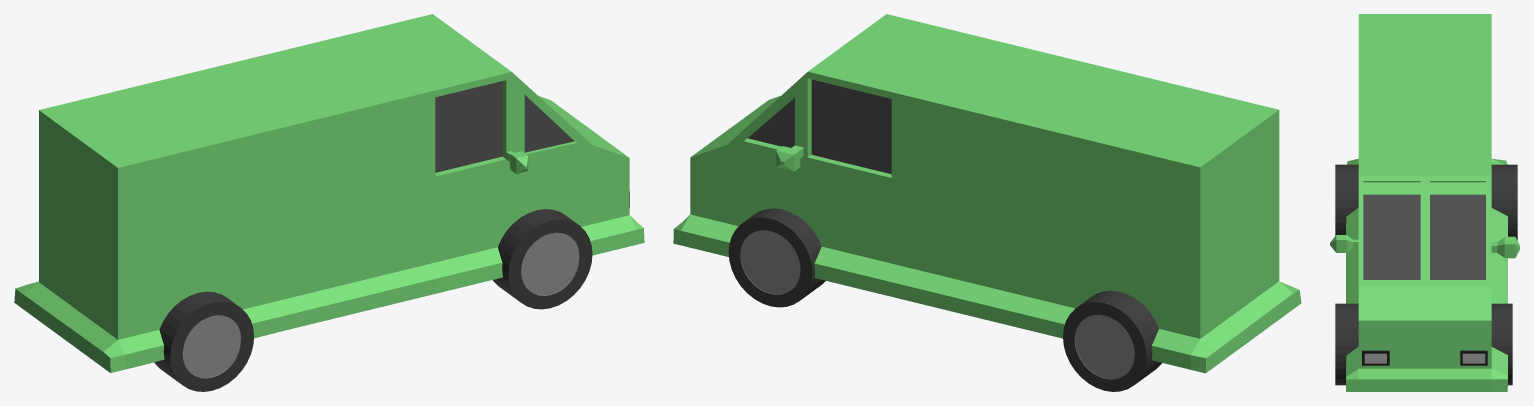
Rendered from Van.fbx.
3 views of the same model, side by side, from view 1: azimuth 30°, elevation 25°; view 2: azimuth 150°, elevation 25°; view 3: azimuth 270°, elevation 25° (orthographic). The views are drawn at different scales.
Parts seen in each view (by area): view 1: Cube, Cylinder.003, Cylinder.002; view 2: Cube, Cylinder.001, Cylinder.004; view 3: Cube, Cylinder.001, Cylinder.003, Cylinder.002, Cylinder.004, Cube.001, Cube.002.
Boxes of the visible parts, box(x1,y1,x2,y2) form: Cube: box(14, 14, 644, 372); Cylinder.003: box(493, 209, 592, 309); Cylinder.002: box(154, 291, 253, 391); Cube: box(673, 14, 1301, 373); Cylinder.001: box(1063, 290, 1161, 391); Cylinder.004: box(728, 208, 825, 307); Cube: box(1330, 14, 1519, 391); Cylinder.001: box(1491, 164, 1517, 240); Cylinder.003: box(1335, 303, 1358, 385); Cylinder.002: box(1335, 164, 1358, 235); Cylinder.004: box(1491, 303, 1512, 385); Cube.001: box(1362, 350, 1389, 365); Cube.002: box(1460, 350, 1487, 365).
Size of the model in its own units: 1271 by 529 by 466.
